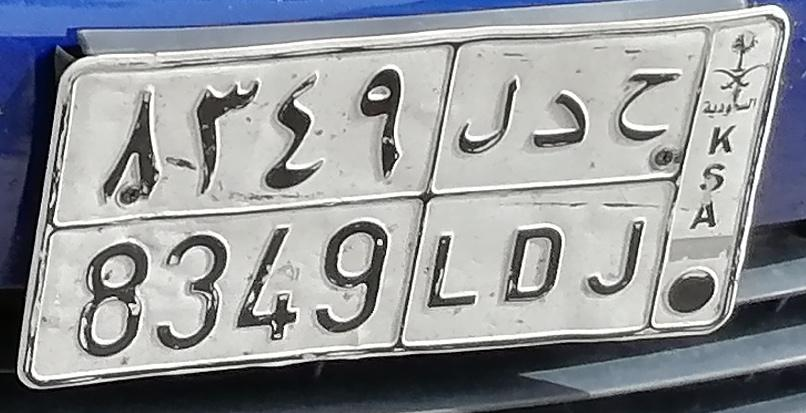8: (71, 88, 161, 362)
9: (318, 64, 413, 346)
J: (587, 65, 684, 306)
